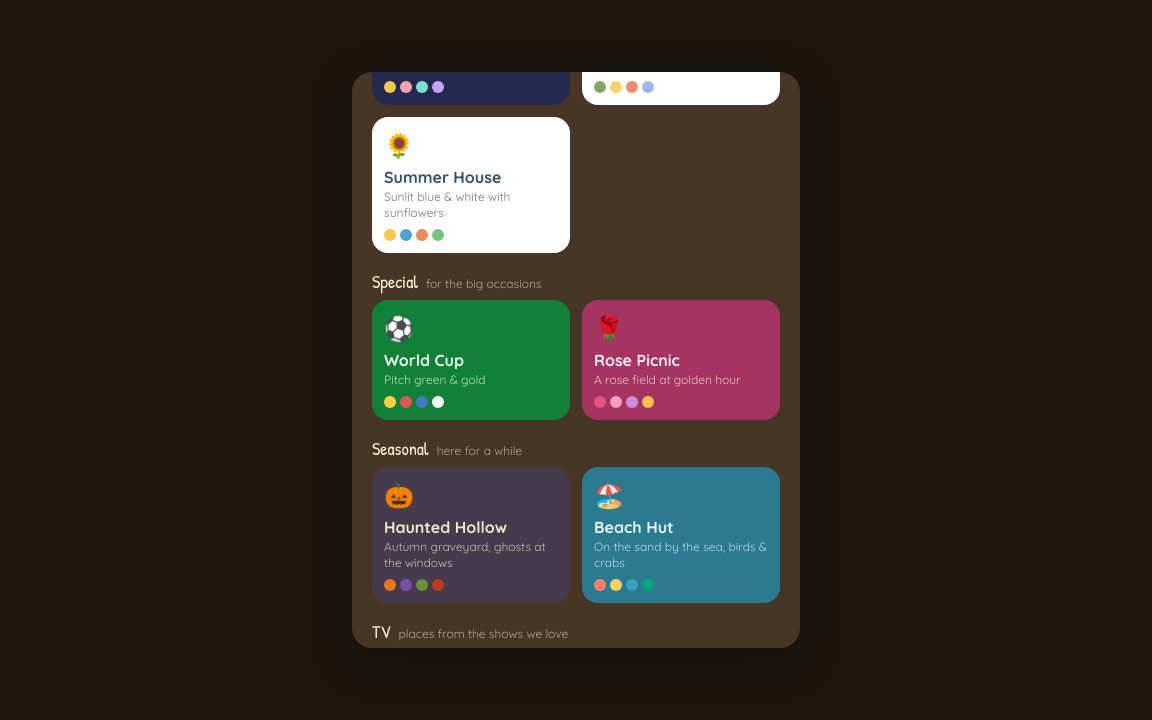
Test case: ThemePicker › rolls back and explains itself if the save fails
The image size is (1152, 720).
(page scrolled)
Click the button "🌹 Rose Picnic A rose field at golden hour" at (681, 360), box x1=582 y1=300 x2=780 y2=420
(page scrolled)
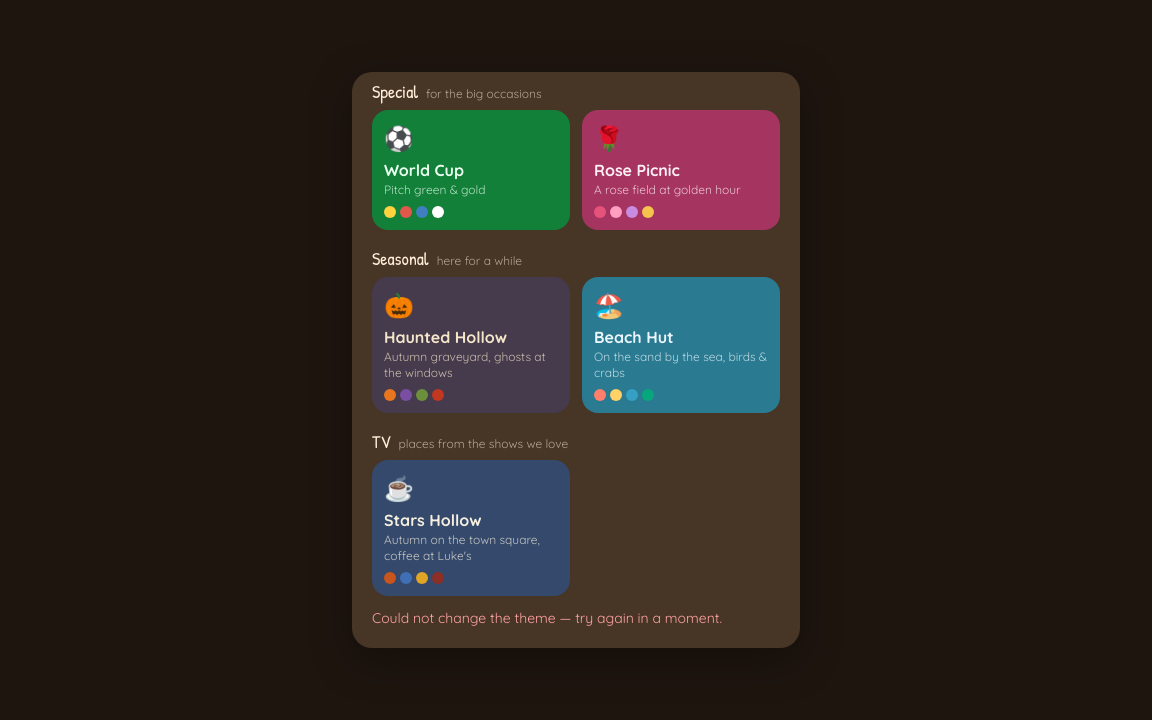
Result: the message "Could not change the theme — try again in a moment." is shown at x1=372 y1=608 x2=780 y2=628
